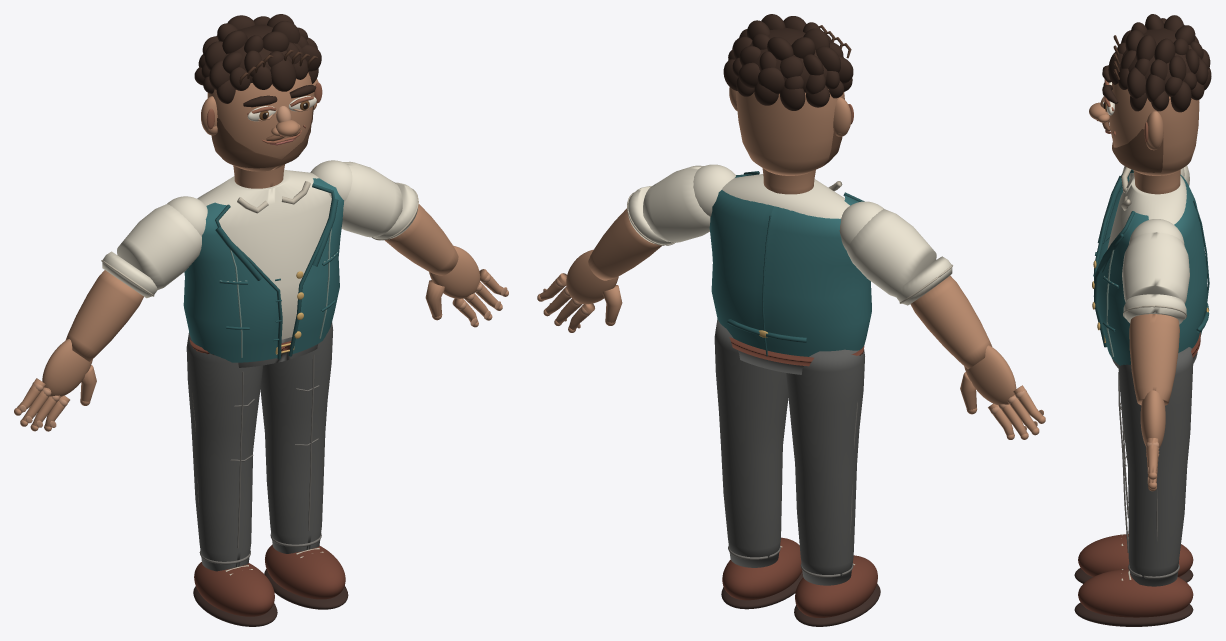
3 renders of one model, left to right at view 1: azimuth 30°, elevation 25°; view 2: azimuth 150°, elevation 25°; view 3: azimuth 270°, elevation 25°, orthographic. The views are drawn at different scales.
Visible parts, largest first — view 1: Left tailored trouser leg, Right tailored trouser leg, Ivory soft shirt | torso, Left waistcoat panel, Shirt sleeve | shaped upper arm (×2), Leather shoe (×2), Forearm (×2), Head | square jaw and cheeks, Right waistcoat panel, Hand | palm (×2), Rolled sleeve cuff (×2), Shoe sole (×2) (+5 smaller); view 2: Left tailored trouser leg, Right tailored trouser leg, Left waistcoat panel, Shirt sleeve | shaped upper arm (×2), Right waistcoat panel, Forearm (×2), Head | square jaw and cheeks, Leather shoe (×2), Hand | palm (×2), Ivory soft shirt | torso, Shoulder sleeve cap (×2), Rolled sleeve cuff (×2) (+4 smaller); view 3: Right tailored trouser leg, Leather shoe (×2), Right waistcoat panel, Loose curl (×17), Shirt sleeve | shaped upper arm, Head | square jaw and cheeks, Forearm, Ivory soft shirt | torso, Shoe sole (×2), Short neatly edged beard, Rolled sleeve cuff, Hand | palm (+11 smaller).
Boxes of the visible parts, box(x1,y1,x2,y2) form: Left tailored trouser leg: box(186, 332, 263, 571); Right tailored trouser leg: box(260, 322, 333, 553); Ivory soft shirt | torso: box(197, 170, 331, 339); Left waistcoat panel: box(183, 202, 278, 362); Shirt sleeve | shaped upper arm (×2): box(117, 161, 402, 289); Leather shoe (×2): box(194, 544, 345, 616); Forearm (×2): box(65, 204, 458, 361); Head | square jaw and cheeks: box(207, 72, 313, 171); Right waistcoat panel: box(292, 178, 343, 353); Hand | palm (×2): box(42, 245, 480, 396); Rolled sleeve cuff (×2): box(102, 182, 417, 298); Shoe sole (×2): box(193, 569, 348, 626); Left tailored trouser leg: box(786, 349, 864, 585); Right tailored trouser leg: box(714, 318, 788, 567); Left waistcoat panel: box(763, 195, 871, 356); Shirt sleeve | shaped upper arm (×2): box(643, 165, 936, 297); Right waistcoat panel: box(709, 174, 773, 349); Forearm (×2): box(588, 208, 992, 369); Head | square jaw and cheeks: box(736, 89, 844, 175); Leather shoe (×2): box(722, 537, 877, 617); Hand | palm (×2): box(566, 249, 1016, 404); Ivory soft shirt | torso: box(722, 174, 849, 218); Shoulder sleeve cap (×2): box(693, 164, 883, 250); Rolled sleeve cuff (×2): box(628, 186, 952, 305); Right tailored trouser leg: box(1118, 347, 1193, 586); Leather shoe (×2): box(1078, 534, 1193, 617); Right waistcoat panel: box(1097, 195, 1207, 365); Loose curl (×17): box(1108, 14, 1208, 112); Shirt sleeve | shaped upper arm: box(1122, 232, 1189, 303); Head | square jaw and cheeks: box(1109, 83, 1199, 175); Forearm: box(1129, 314, 1179, 405); Ivory soft shirt | torso: box(1107, 175, 1186, 249); Shoe sole (×2): box(1074, 568, 1193, 626); Short neatly edged beard: box(1112, 129, 1163, 172); Rolled sleeve cuff: box(1123, 294, 1186, 324); Hand | palm: box(1140, 390, 1165, 447).
Bounding box in the file's own units: 3.28 × 3.63 × 0.7836.
